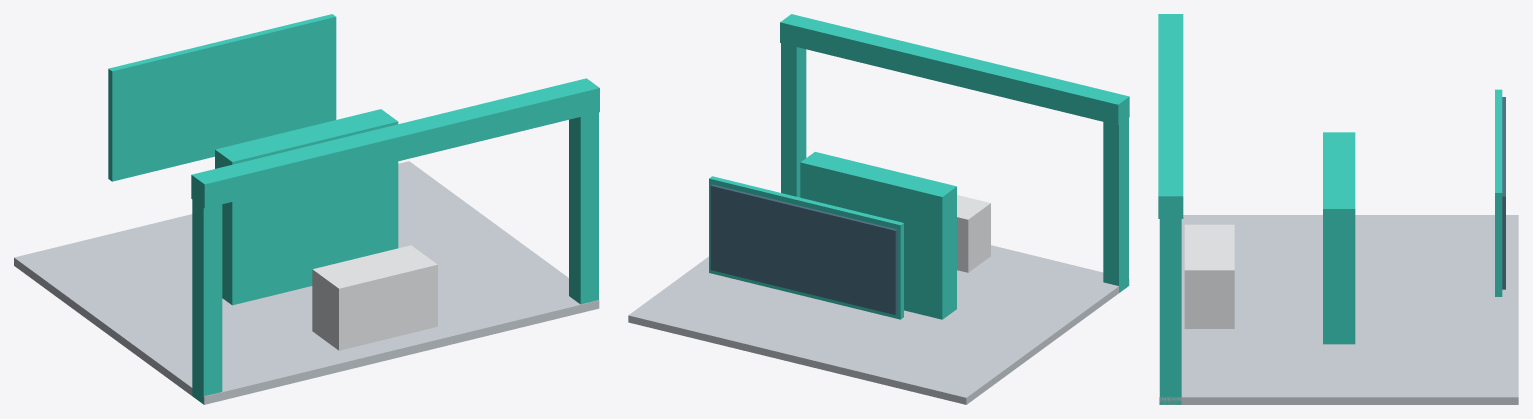
The picture shows the model from 3 angles, left to right: view 1: azimuth 30°, elevation 25°; view 2: azimuth 150°, elevation 25°; view 3: azimuth 270°, elevation 25°; orthographic projection. The views are drawn at different scales.
Visible parts, largest first — view 1: Exhibition Booth Concept; view 2: Exhibition Booth Concept; view 3: Exhibition Booth Concept.
Part boxes in pixels (x1,y1,x2,y2): Exhibition Booth Concept: [14, 14, 599, 404]; Exhibition Booth Concept: [628, 14, 1129, 404]; Exhibition Booth Concept: [1158, 14, 1518, 404].
Bounding box in the file's own units: 6 × 3.2 × 5.02.
